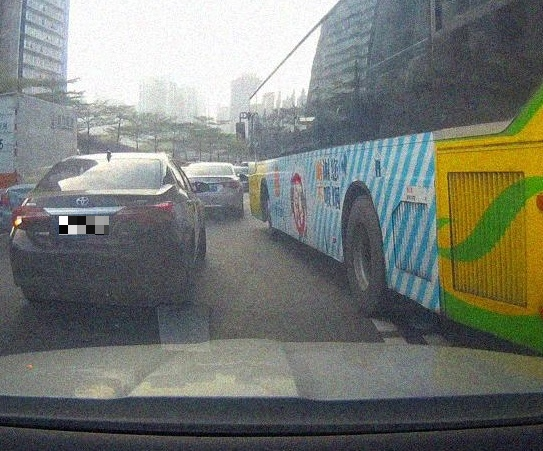L_light: (11, 207, 56, 230)
R_light: (117, 200, 172, 228)
T_light: (75, 185, 105, 191)
day-left: (9, 152, 174, 303)
plate_1: (59, 216, 109, 235)
